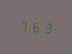seven: (18, 18, 28, 33)
six: (30, 19, 40, 34)
three: (41, 20, 51, 35)
